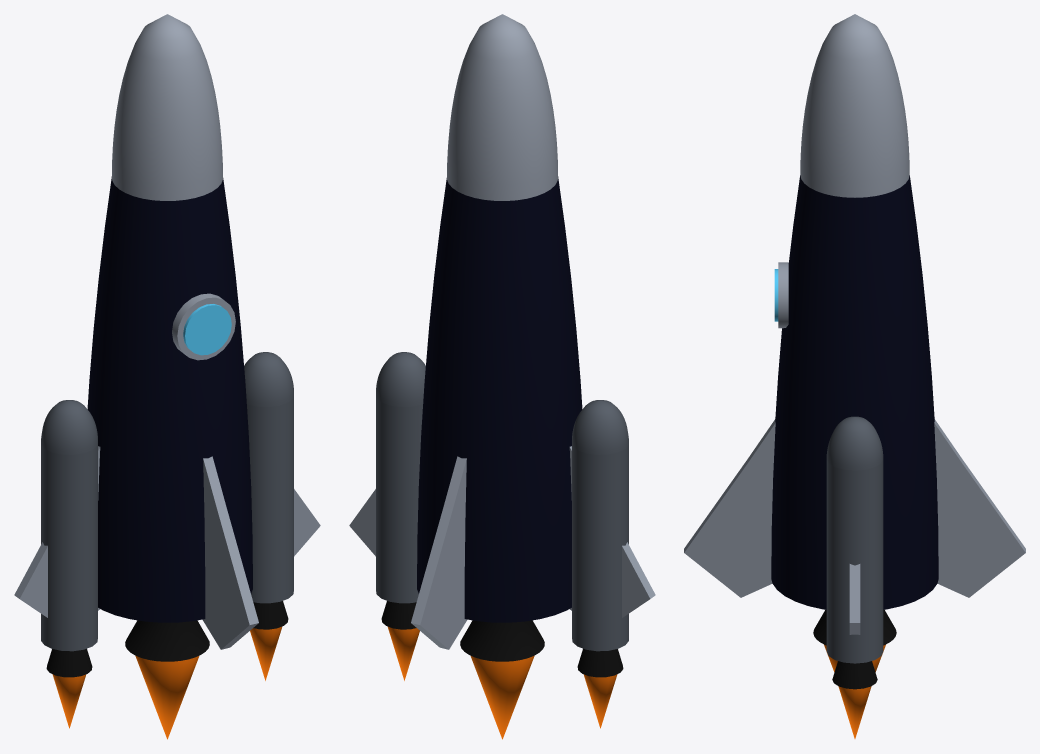
File: Rocket_08_NavySleek.obj
3 renders of one model, left to right at view 1: azimuth 30°, elevation 25°; view 2: azimuth 150°, elevation 25°; view 3: azimuth 270°, elevation 25°, orthographic.
Parts seen in each view (by area): view 1: R08_Body, R08_Nose, R08_Booster_2, R08_Booster_1, R08_Fin_3, R08_Nozzle_1, R08_BoosterNose_2, R08_Flame_1, R08_BoosterNose_1, R08_Window_1, R08_Fin_2, R08_WindowFrame_1 (+5 smaller); view 2: R08_Body, R08_Nose, R08_Booster_2, R08_Booster_1, R08_Fin_1, R08_Nozzle_1, R08_BoosterNose_2, R08_Flame_1, R08_BoosterNose_1, R08_Fin_2, R08_BoosterNozzle_2, R08_Fin_4 (+3 smaller); view 3: R08_Body, R08_Nose, R08_Booster_1, R08_Fin_1, R08_Fin_3, R08_BoosterNose_1, R08_BoosterNozzle_1, R08_BoosterFlame_1, R08_Fin_4, R08_WindowFrame_1, R08_Nozzle_1.
Part boxes in pixels (<box>): R08_Body: <box>87,176,252,622</box>; R08_Nose: <box>112,14,222,200</box>; R08_Booster_2: <box>41,443,97,651</box>; R08_Booster_1: <box>247,396,293,603</box>; R08_Fin_3: <box>202,456,258,649</box>; R08_Nozzle_1: <box>125,620,209,661</box>; R08_BoosterNose_2: <box>41,400,97,454</box>; R08_Flame_1: <box>135,655,199,739</box>; R08_BoosterNose_1: <box>244,352,293,406</box>; R08_Window_1: <box>183,304,231,355</box>; R08_Fin_2: <box>14,446,100,617</box>; R08_WindowFrame_1: <box>172,293,235,360</box>; R08_Body: <box>417,176,582,622</box>; R08_Nose: <box>447,14,557,200</box>; R08_Booster_2: <box>572,443,628,651</box>; R08_Booster_1: <box>376,396,422,603</box>; R08_Fin_1: <box>411,456,467,649</box>; R08_Nozzle_1: <box>460,620,544,661</box>; R08_BoosterNose_2: <box>572,400,628,454</box>; R08_Flame_1: <box>470,655,534,739</box>; R08_BoosterNose_1: <box>376,352,425,406</box>; R08_Fin_2: <box>569,446,655,617</box>; R08_BoosterNozzle_2: <box>577,648,623,677</box>; R08_Fin_4: <box>349,489,375,556</box>; R08_Body: <box>771,175,938,609</box>; R08_Nose: <box>800,14,909,197</box>; R08_Booster_1: <box>826,459,883,663</box>; R08_Fin_1: <box>934,419,1025,597</box>; R08_Fin_3: <box>684,419,775,597</box>; R08_BoosterNose_1: <box>826,416,883,470</box>; R08_BoosterNozzle_1: <box>832,661,877,689</box>; R08_BoosterFlame_1: <box>838,686,871,738</box>; R08_Fin_4: <box>849,564,860,634</box>; R08_WindowFrame_1: <box>778,262,788,328</box>; R08_Nozzle_1: <box>813,609,896,645</box>.
Bounding box in the file's own units: 3.85 × 8.87 × 3.85.
